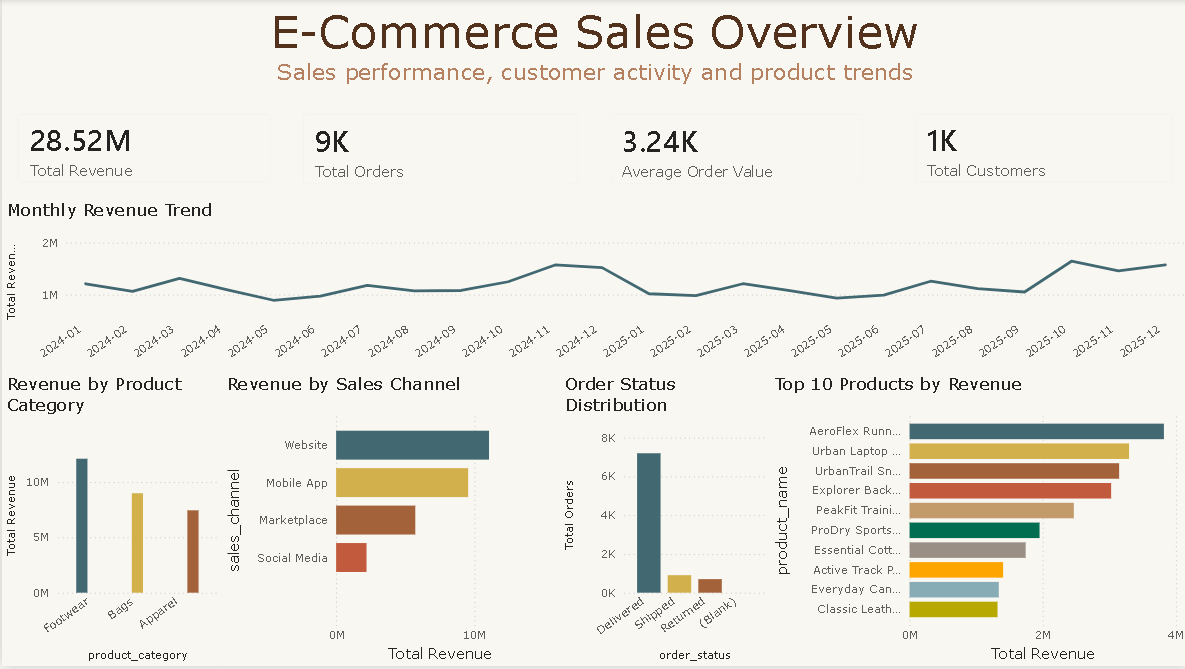

The dashboard page shown, as its layout file describes it:
{"tool":"powerbi","page":{"name":"Executive Overview","canvas":[1280,720],"ordinal":0},"visuals":[{"type":"textbox","box":[0,0,1280.8,106.9],"z":0},{"type":"cardVisual","fields":{"Data":["orders.Total Revenue"]},"box":[0,106.9,307.7,108.5],"z":1},{"type":"cardVisual","fields":{"Data":["orders.Total Orders"]},"box":[307.7,106.9,331.9,110.1],"z":2},{"type":"cardVisual","fields":{"Data":["orders.Total Customers"]},"box":[968.3,106.9,312.5,108.5],"z":3},{"type":"cardVisual","fields":{"Data":["orders.Average Order Value"]},"box":[639.6,106.9,306,110.1],"z":4},{"type":"lineChart","title":"Monthly Revenue Trend","fields":{"Category":["DateTable.Year Month"],"Y":["orders.Total Revenue"]},"box":[0,215.4,1280.8,187.8],"z":5},{"type":"clusteredColumnChart","title":"Revenue by Product Category","fields":{"Category":["products.product_category"],"Y":["orders.Total Revenue"],"Series":["products.product_category"]},"box":[0,403.2,238,317.4],"z":6},{"type":"barChart","title":"Revenue by Sales Channel","fields":{"Category":["orders.sales_channel"],"Y":["orders.Total Revenue"],"Series":["orders.sales_channel"]},"box":[238,403.2,364.3,317.4],"z":7},{"type":"barChart","title":"Top 10 Products by Revenue","fields":{"Category":["products.product_name"],"Y":["orders.Total Revenue"],"Series":["products.product_name"]},"box":[829,403.2,451.8,317.4],"z":8},{"type":"columnChart","title":"Order Status Distribution","fields":{"Category":["orders.order_status"],"Y":["orders.Total Orders"],"Series":["orders.order_status"]},"box":[602.4,403.2,226.7,317.4],"z":9}]}

Visuals, with their boxes in screenshot pixels (x1, y1, x2, y2), scaled from the page's 1280x720 canvas onto the 1185x669 screenshot:
textbox: {"left": 0, "top": 0, "right": 1184, "bottom": 99}
cardVisual - orders.Total Revenue: {"left": 0, "top": 99, "right": 285, "bottom": 200}
cardVisual - orders.Total Orders: {"left": 285, "top": 99, "right": 592, "bottom": 202}
cardVisual - orders.Total Customers: {"left": 896, "top": 99, "right": 1184, "bottom": 200}
cardVisual - orders.Average Order Value: {"left": 592, "top": 99, "right": 875, "bottom": 202}
"Monthly Revenue Trend" lineChart: {"left": 0, "top": 200, "right": 1184, "bottom": 375}
"Revenue by Product Category" clusteredColumnChart: {"left": 0, "top": 375, "right": 220, "bottom": 668}
"Revenue by Sales Channel" barChart: {"left": 220, "top": 375, "right": 558, "bottom": 668}
"Top 10 Products by Revenue" barChart: {"left": 767, "top": 375, "right": 1184, "bottom": 668}
"Order Status Distribution" columnChart: {"left": 558, "top": 375, "right": 768, "bottom": 668}
